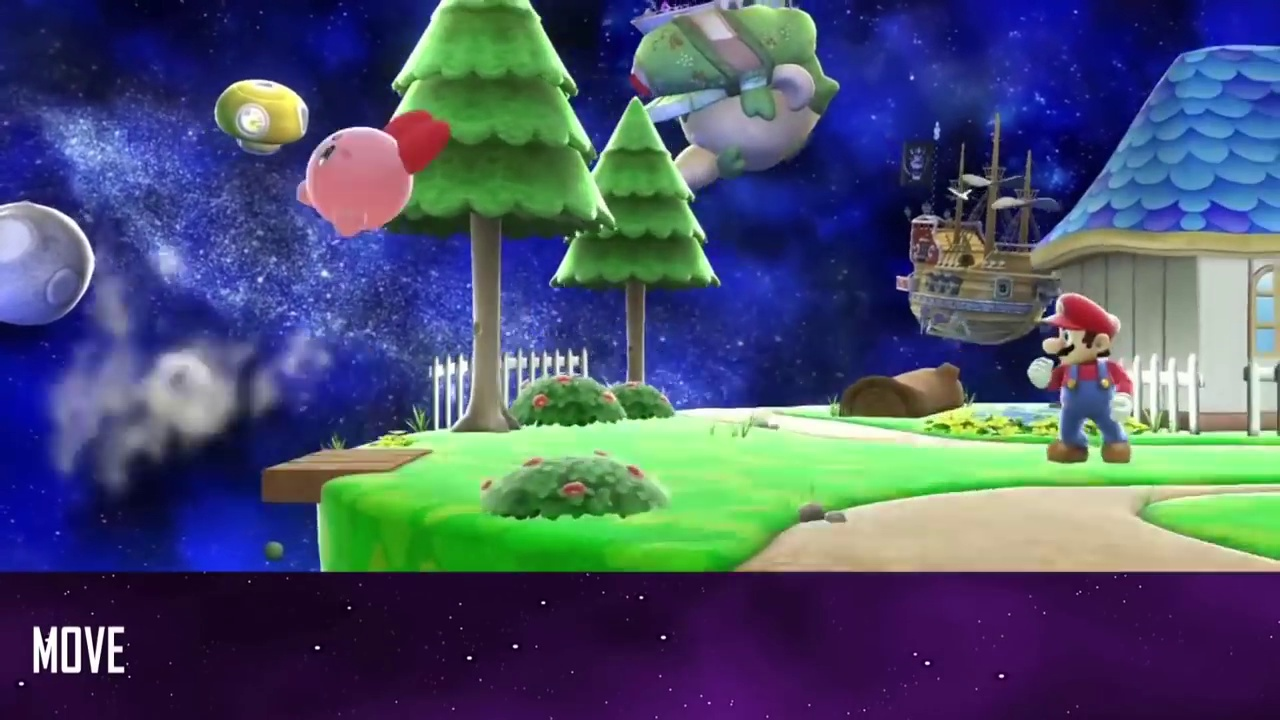Mario: (1025, 293, 1133, 464)
